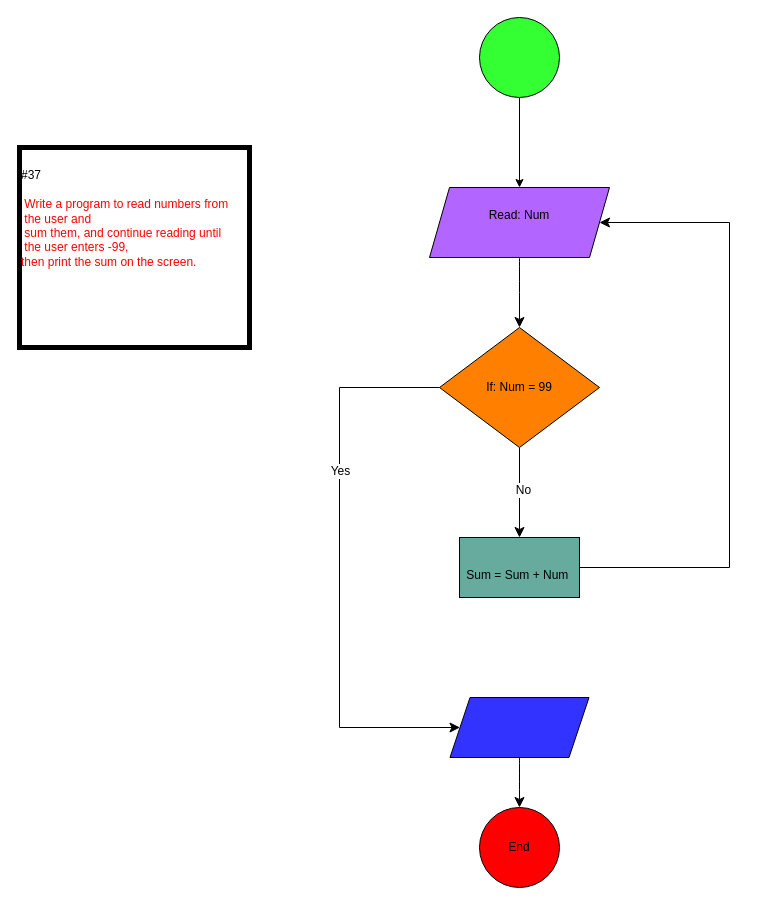
Some shapes in this 757 by 905 pixel diagram are drawn without their labels. The shapes that lost their labels are listed below. From the top down, each one's centre as x and y in pixels, then its label:
At (x=519, y=57): "Start".
At (x=519, y=727): "Print Sum".
